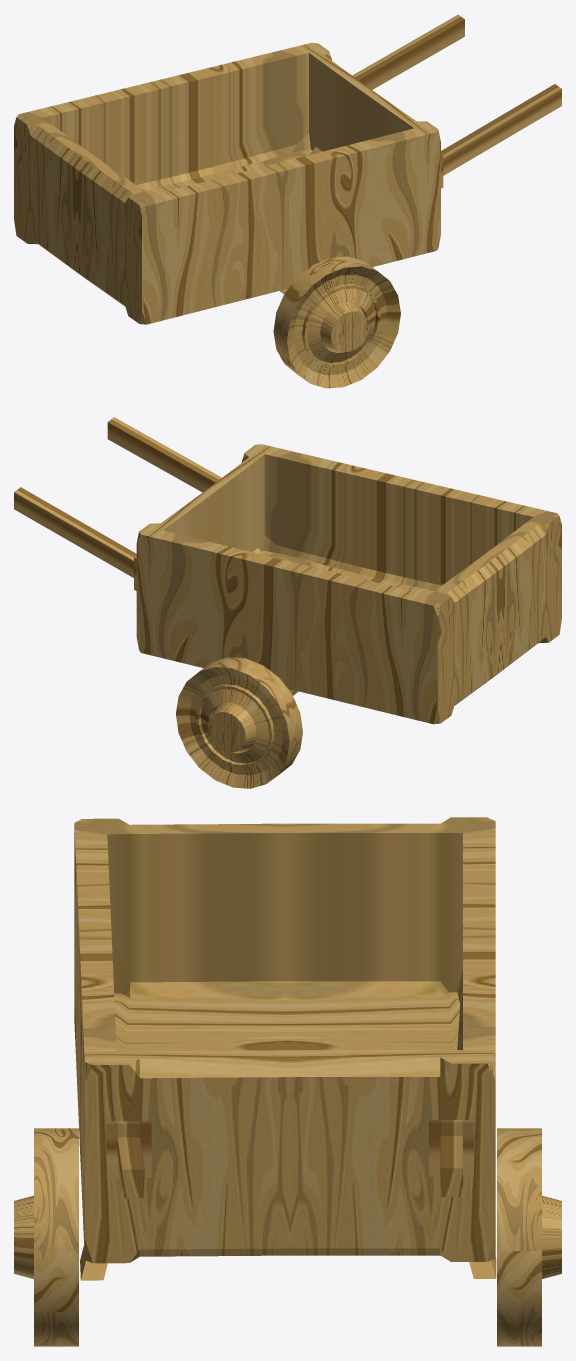
Rendered from brouette.fbx.
3 renders of one model, top to bottom at view 1: azimuth 30°, elevation 25°; view 2: azimuth 150°, elevation 25°; view 3: azimuth 270°, elevation 25°, orthographic. The views are drawn at different scales.
Parts seen in each view (by area): view 1: pCylinder3; view 2: pCylinder3; view 3: pCylinder3.
Boxes of the visible parts, box(x1,y1,x2,y2) form: pCylinder3: box(14, 14, 561, 388); pCylinder3: box(14, 417, 561, 788); pCylinder3: box(14, 817, 561, 1346).
Size of the model in its own units: 35.61 by 17.12 by 23.19.
